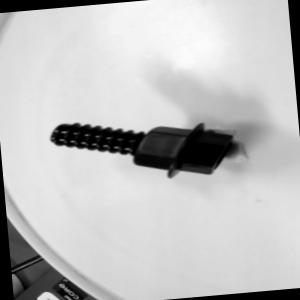parafuso: (47, 106, 238, 188), (46, 107, 235, 189)
